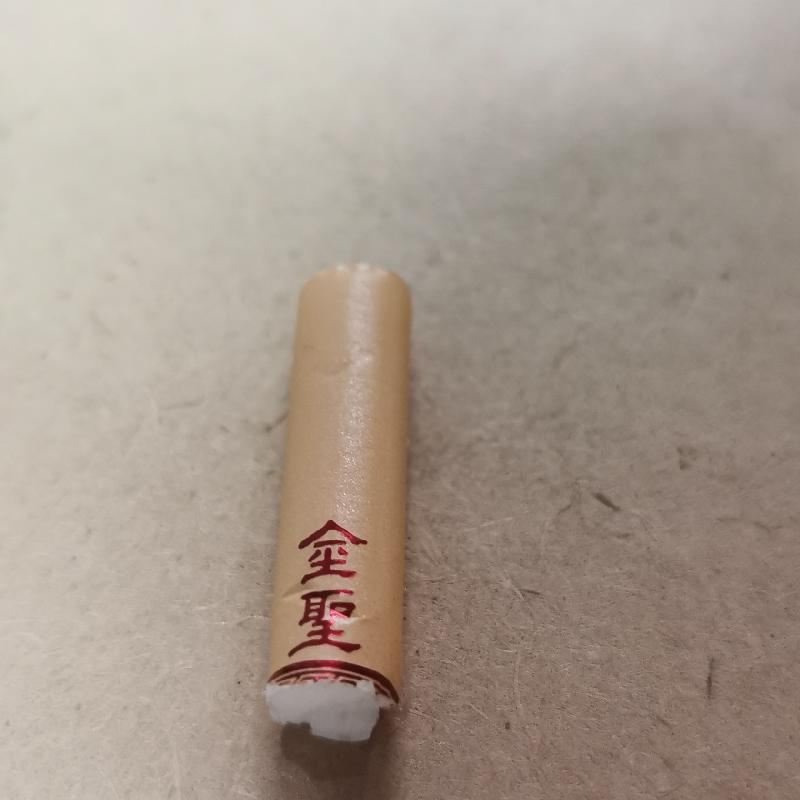cigarette: (265, 260, 419, 743)
